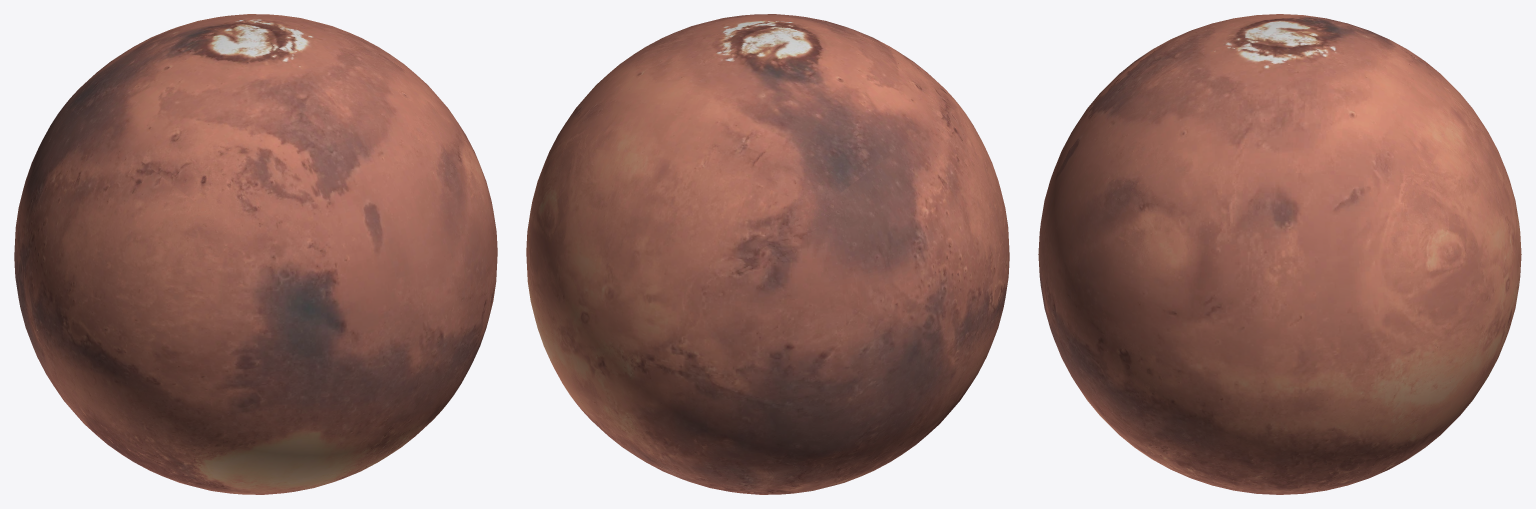
Rendered from mars.glb.
The picture shows the model from 3 angles, left to right: view 1: azimuth 30°, elevation 25°; view 2: azimuth 150°, elevation 25°; view 3: azimuth 270°, elevation 25°; orthographic projection.
Visible parts, largest first — view 1: Cube.008; view 2: Cube.008; view 3: Cube.008.
Boxes of the visible parts, bbox=[...] form: Cube.008: bbox=[14, 14, 497, 494]; Cube.008: bbox=[526, 14, 1009, 494]; Cube.008: bbox=[1038, 14, 1521, 494].
Size of the model in its own units: 1000 by 994 by 1000.
1 material, 1 textured.
